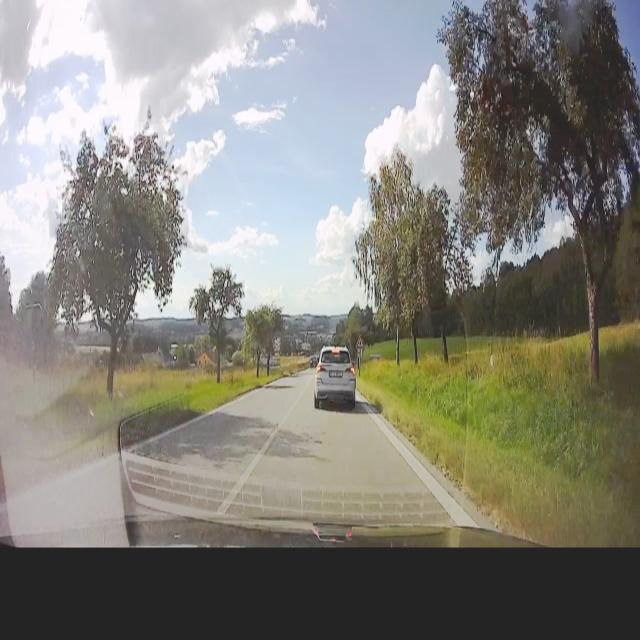Priority road: (356, 332, 364, 348)
